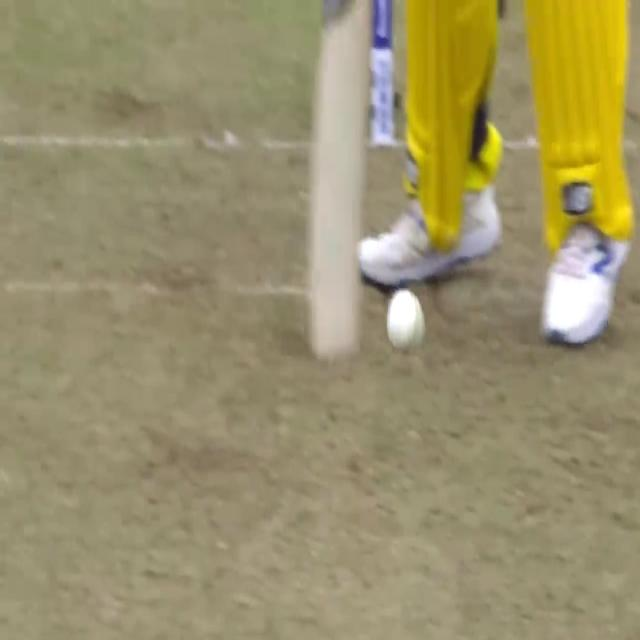ball: (376, 276, 434, 370)
